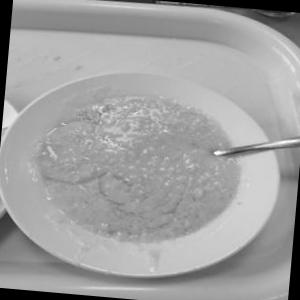porridge: (12, 78, 255, 262)
